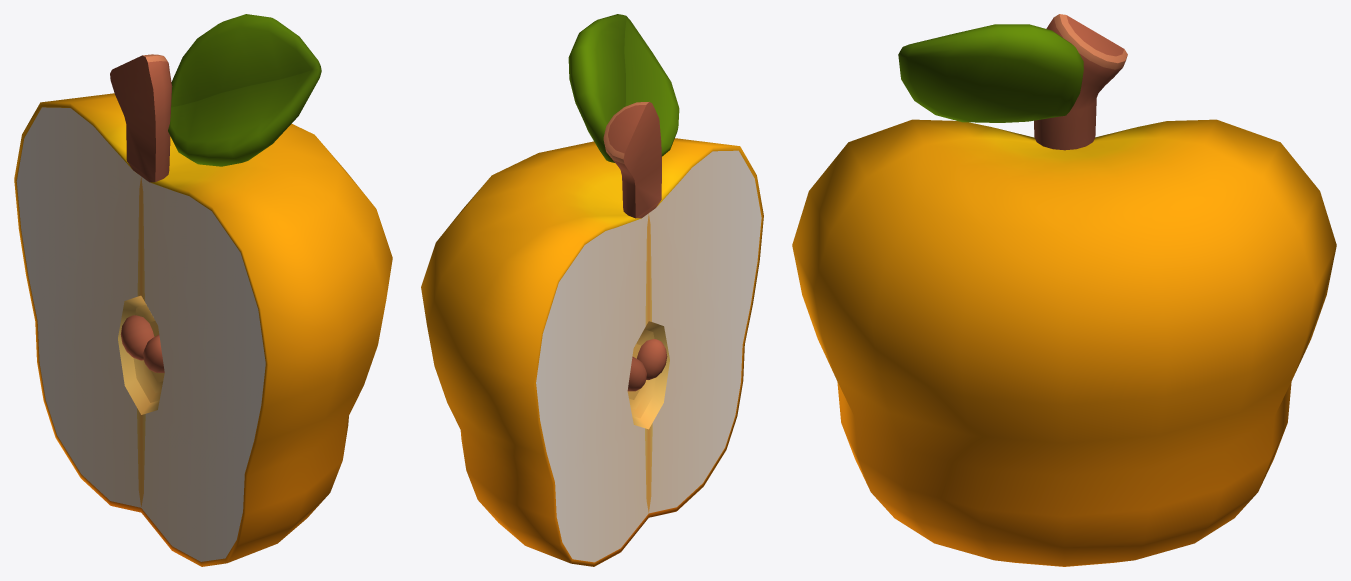
The model's file is Apple_V2_01.fbx.
The picture shows the model from 3 angles, left to right: view 1: azimuth 30°, elevation 25°; view 2: azimuth 150°, elevation 25°; view 3: azimuth 270°, elevation 25°; orthographic projection. The views are drawn at different scales.
Parts seen in each view (by area): view 1: Apple_V2_01; view 2: Apple_V2_01; view 3: Apple_V2_01.
Boxes of the visible parts, x1,y1,x2,y2 form: Apple_V2_01: (14,14,392,566); Apple_V2_01: (421,14,763,566); Apple_V2_01: (792,14,1336,566).
Size of the model in its own units: 16.01 by 34.43 by 31.2.
